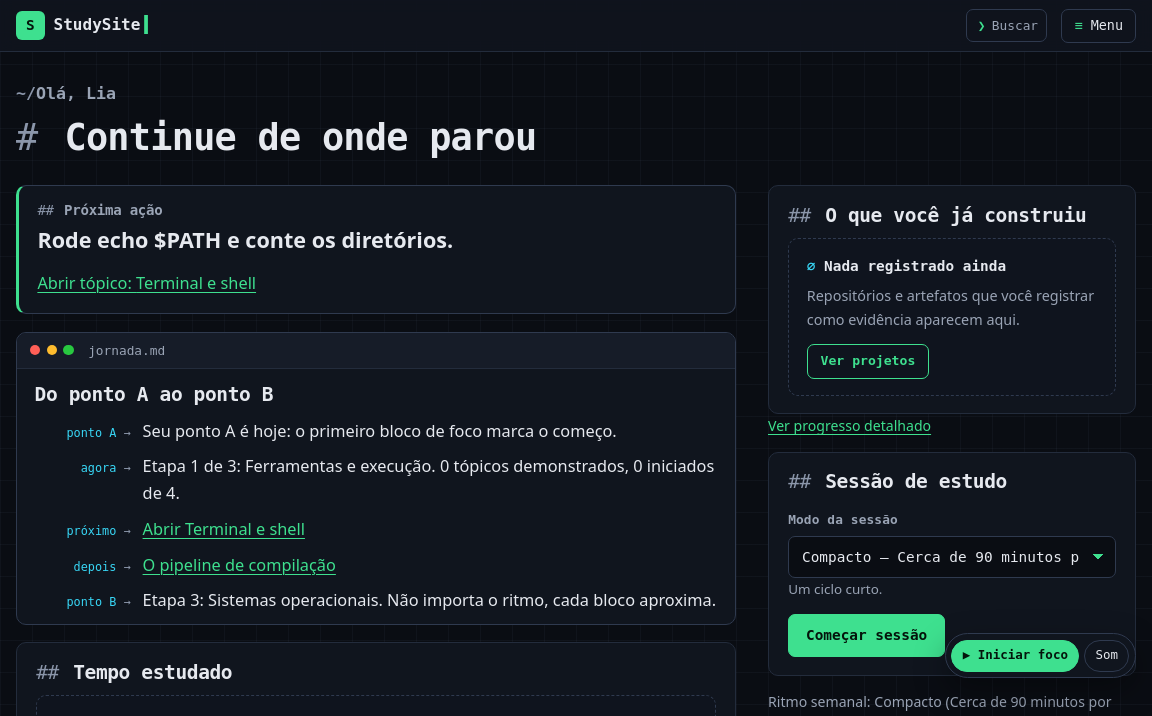
paleta de comandos › fecha com Esc e devolve o foco ao botão de busca
Click the button "Buscar": (1006, 26) [966, 9, 1047, 42]
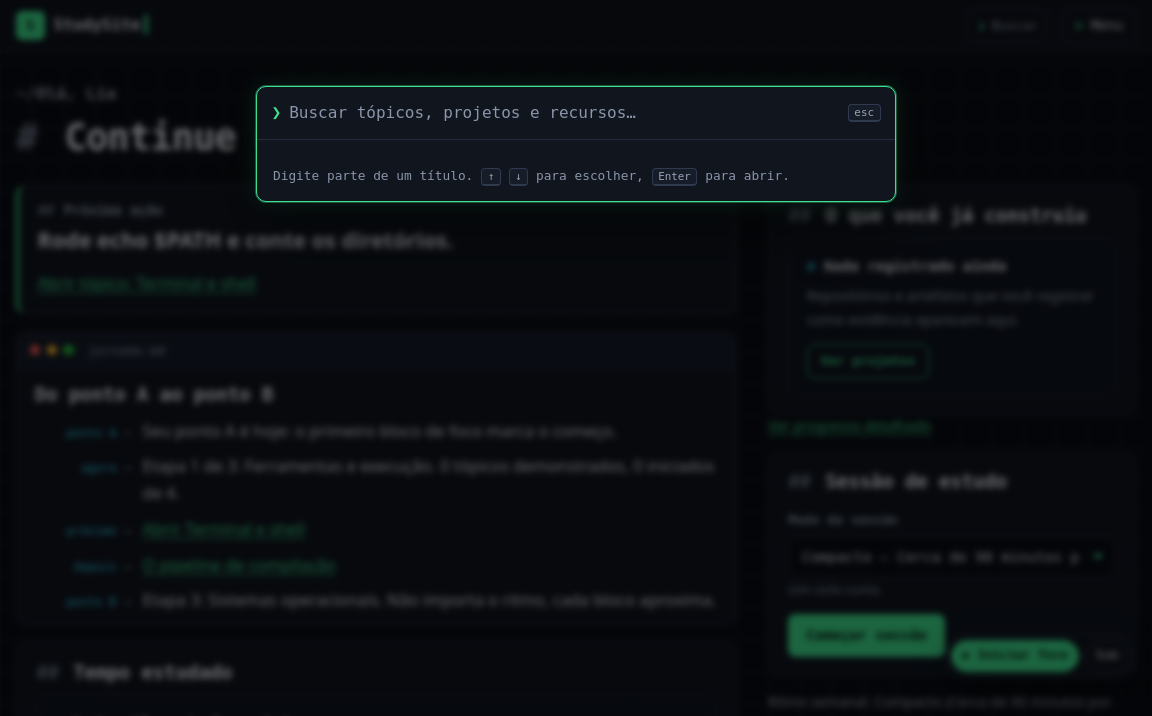
Now the dialog is shown, box [256, 86, 896, 202]
Press Escape
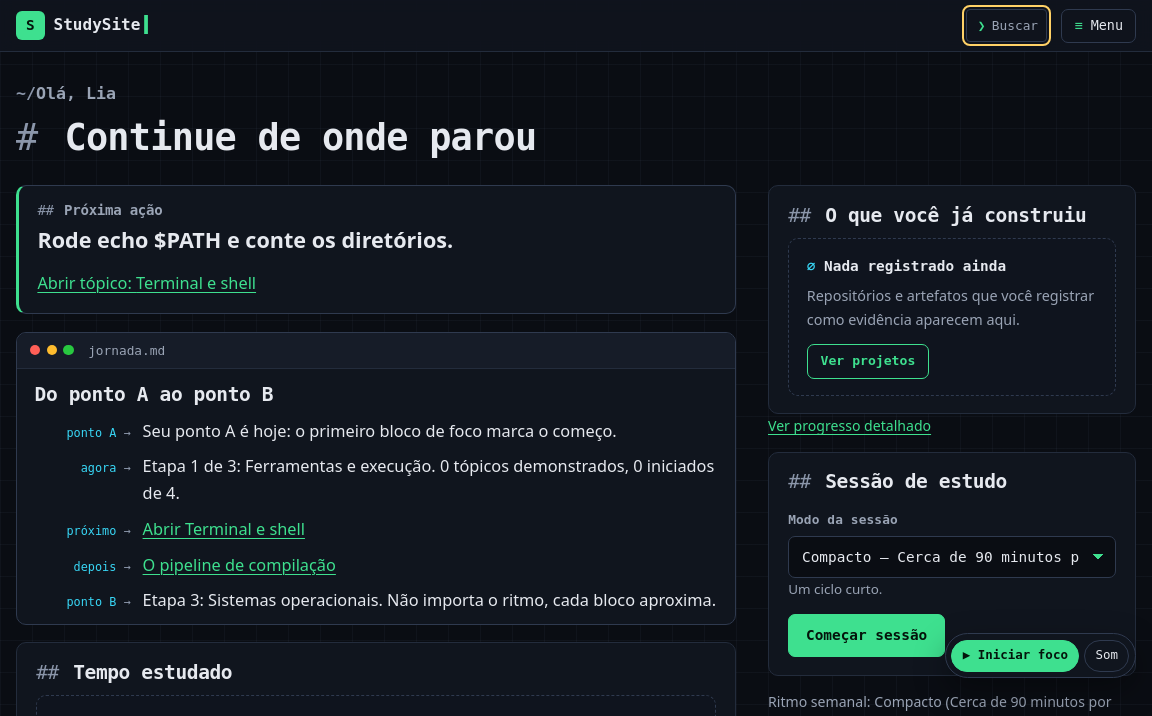
Now the dialog is gone
